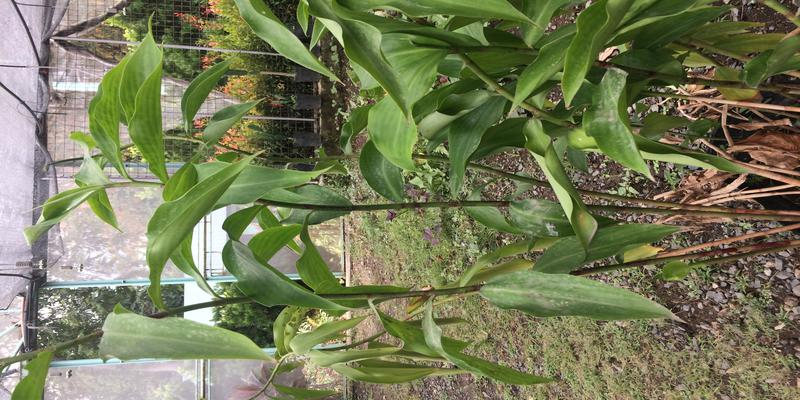Insulin: (141, 163, 800, 384)
